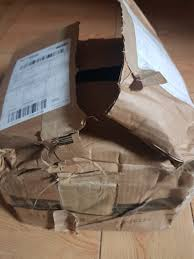damaged package: (0, 128, 118, 233), (131, 161, 193, 210), (114, 64, 174, 103)
